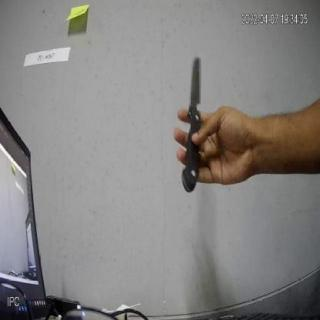knife: (180, 53, 206, 195)
